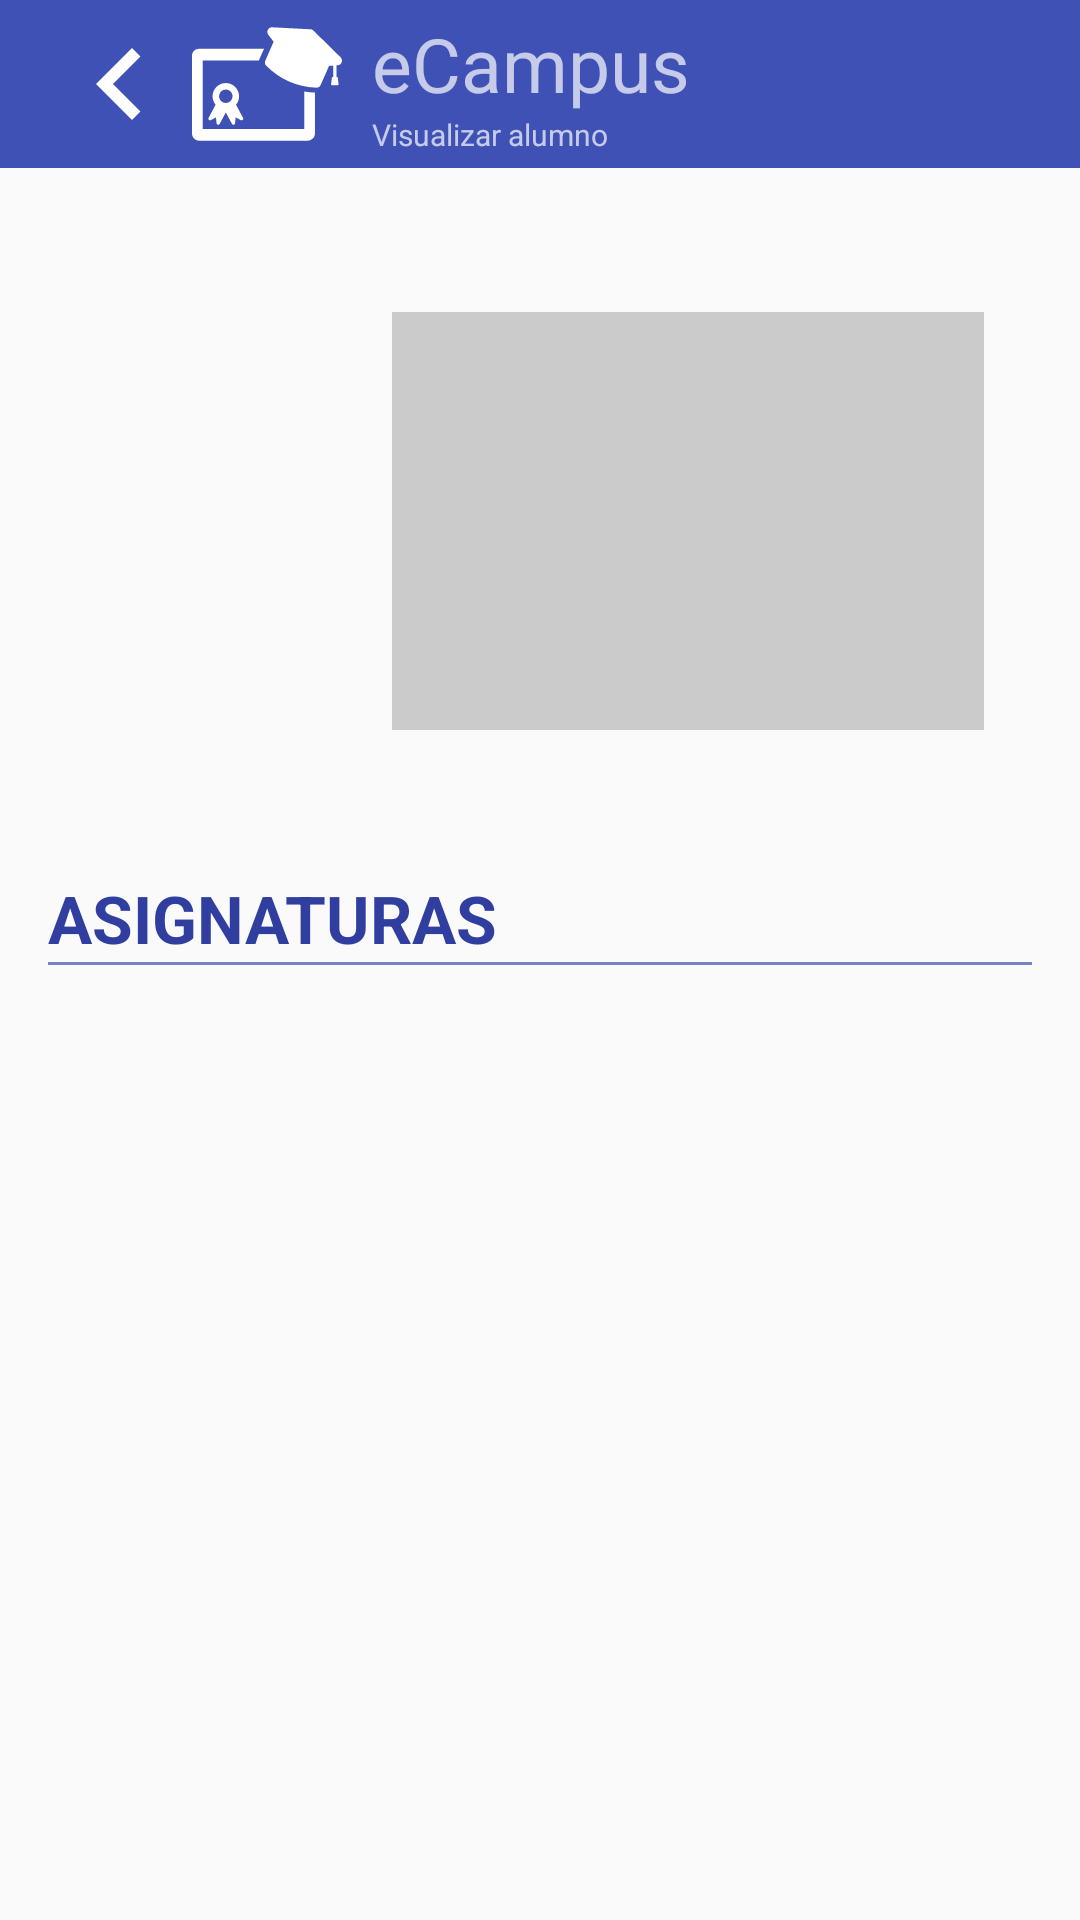

Locate icon controls on the screen. Image size 1080 × 1920, boxes as [x1,y1,x2,y2].
back toolbar: [96,48,141,120]
